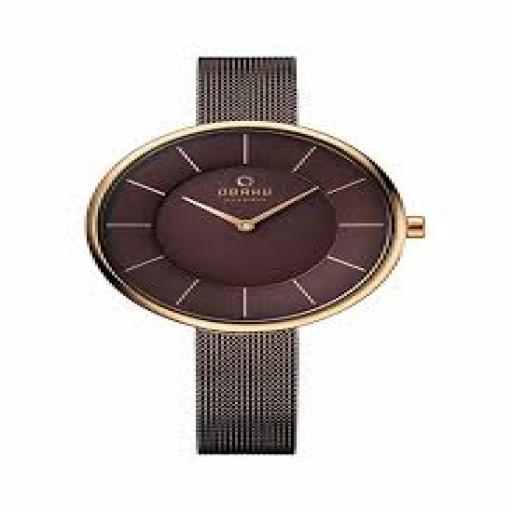KolSaati: (56, 35, 449, 463)
